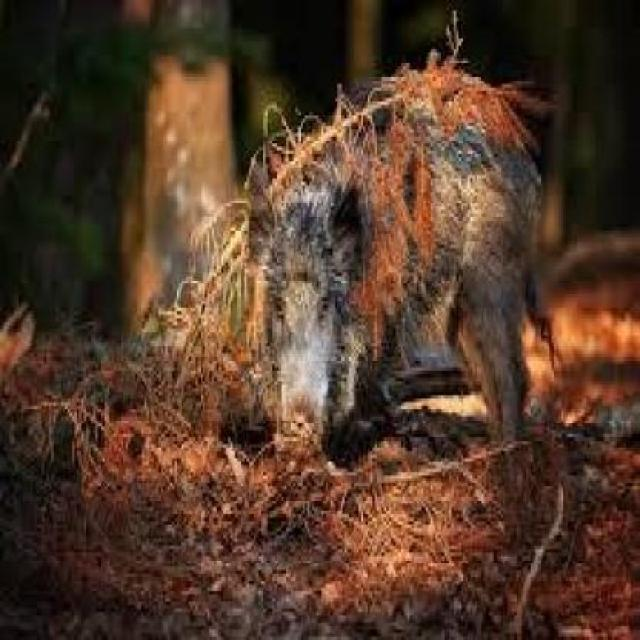wildboar: (246, 63, 554, 515)
